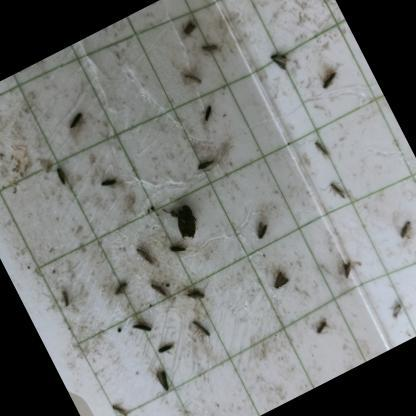prays_oleae: (258, 34, 304, 90), (174, 53, 212, 98), (257, 258, 295, 300), (182, 304, 216, 350), (126, 235, 162, 276), (91, 168, 128, 205), (178, 267, 212, 307), (148, 362, 182, 402), (58, 106, 95, 142), (43, 156, 74, 196), (189, 146, 225, 179), (381, 292, 412, 328), (246, 212, 277, 247), (313, 63, 343, 97), (390, 208, 416, 246), (102, 272, 134, 302), (305, 309, 333, 342), (323, 171, 349, 205), (127, 310, 156, 340), (306, 131, 333, 163), (162, 230, 190, 260), (194, 97, 220, 129), (52, 282, 77, 314), (152, 332, 180, 360), (175, 13, 202, 41), (197, 36, 223, 62), (147, 277, 170, 306), (337, 254, 360, 283), (106, 393, 134, 416), (193, 405, 220, 416)
